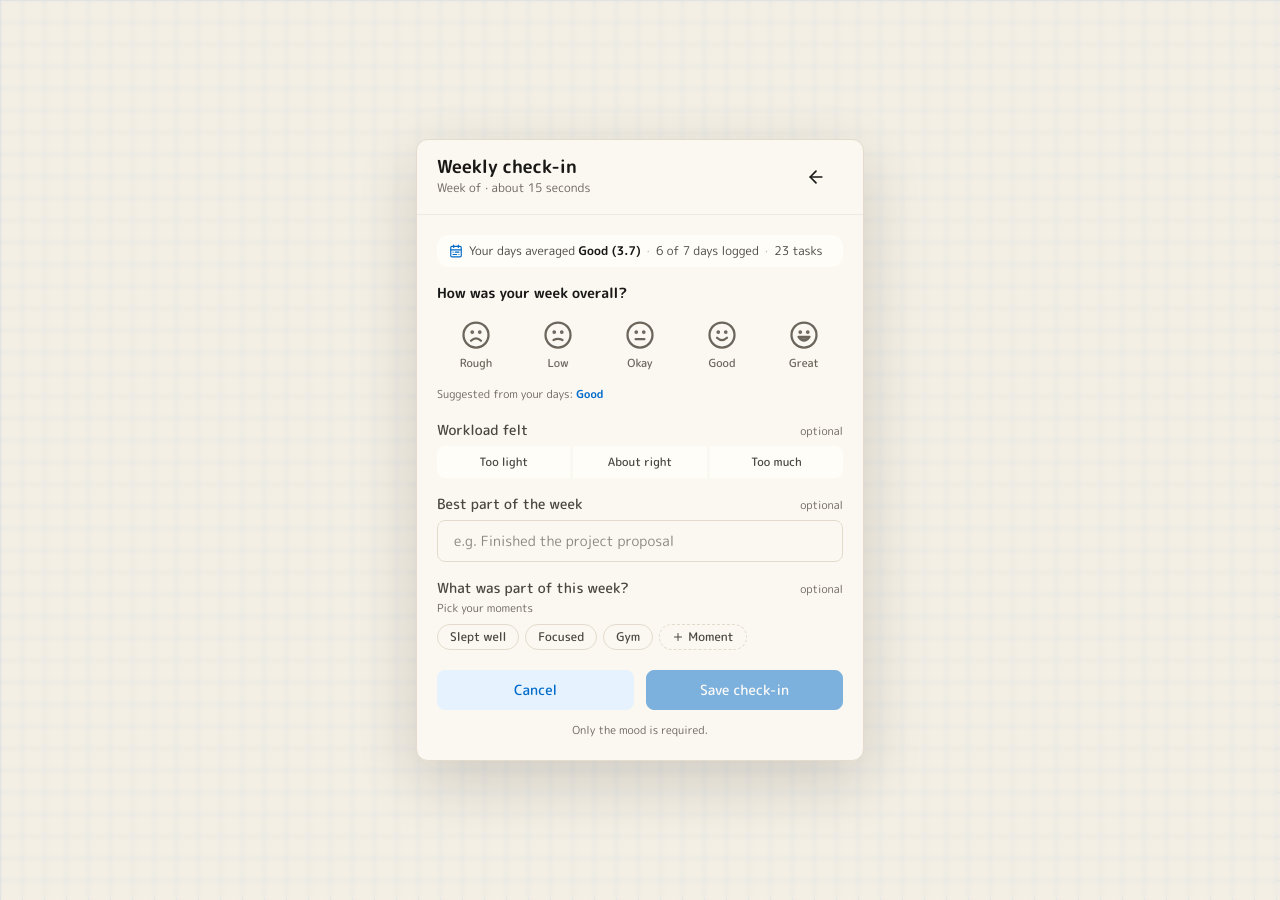
MoodCheckinModal for a week or month › suggests a mood from the days but never picks it
The image size is (1280, 900).
Expected: the button "Save check-in" is disabled, 646,670 -> 843,710
Click the button "Good".
click(590, 395)  # box 576,386 -> 604,404
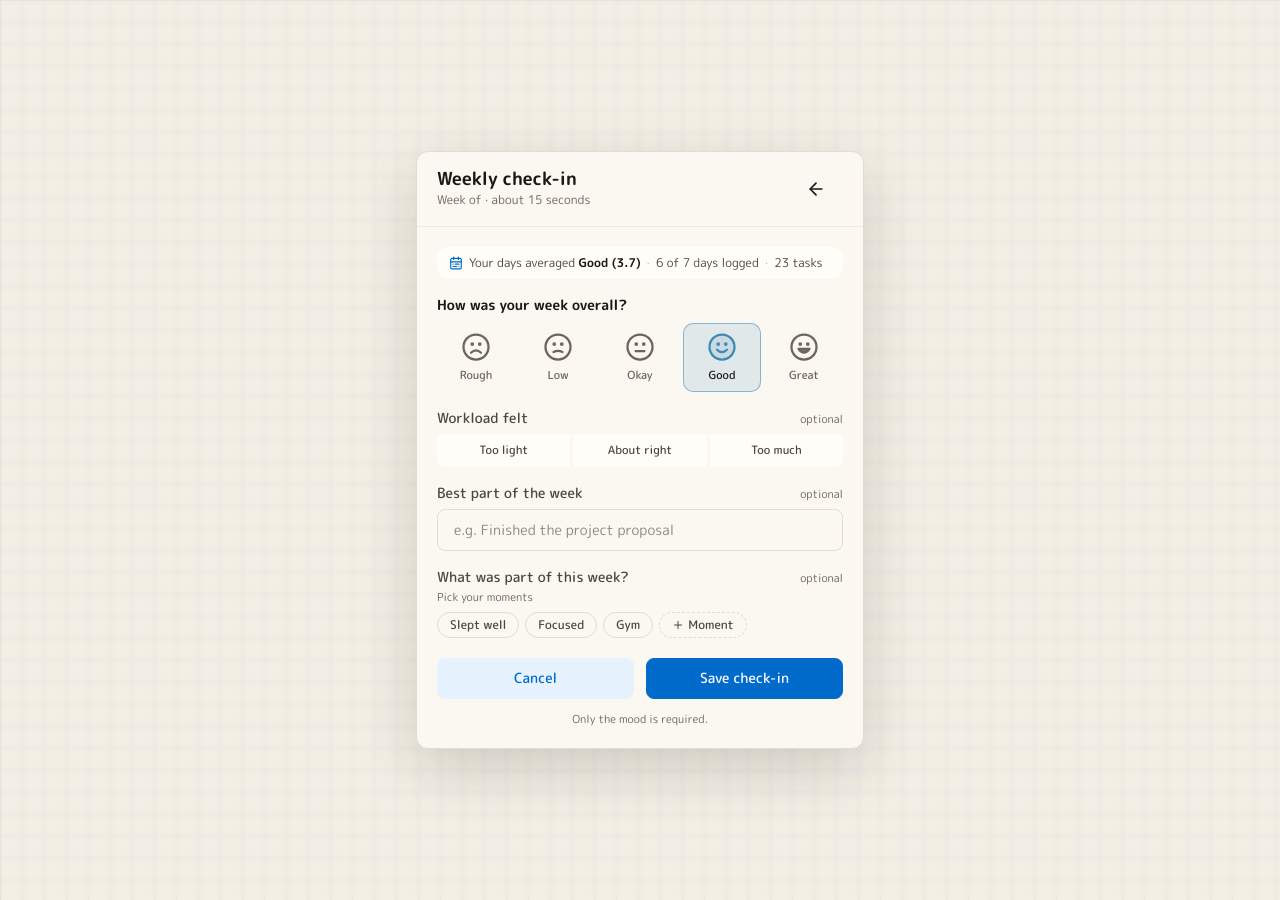
Expected: the button "Save check-in" is enabled, 646,658 -> 843,699
